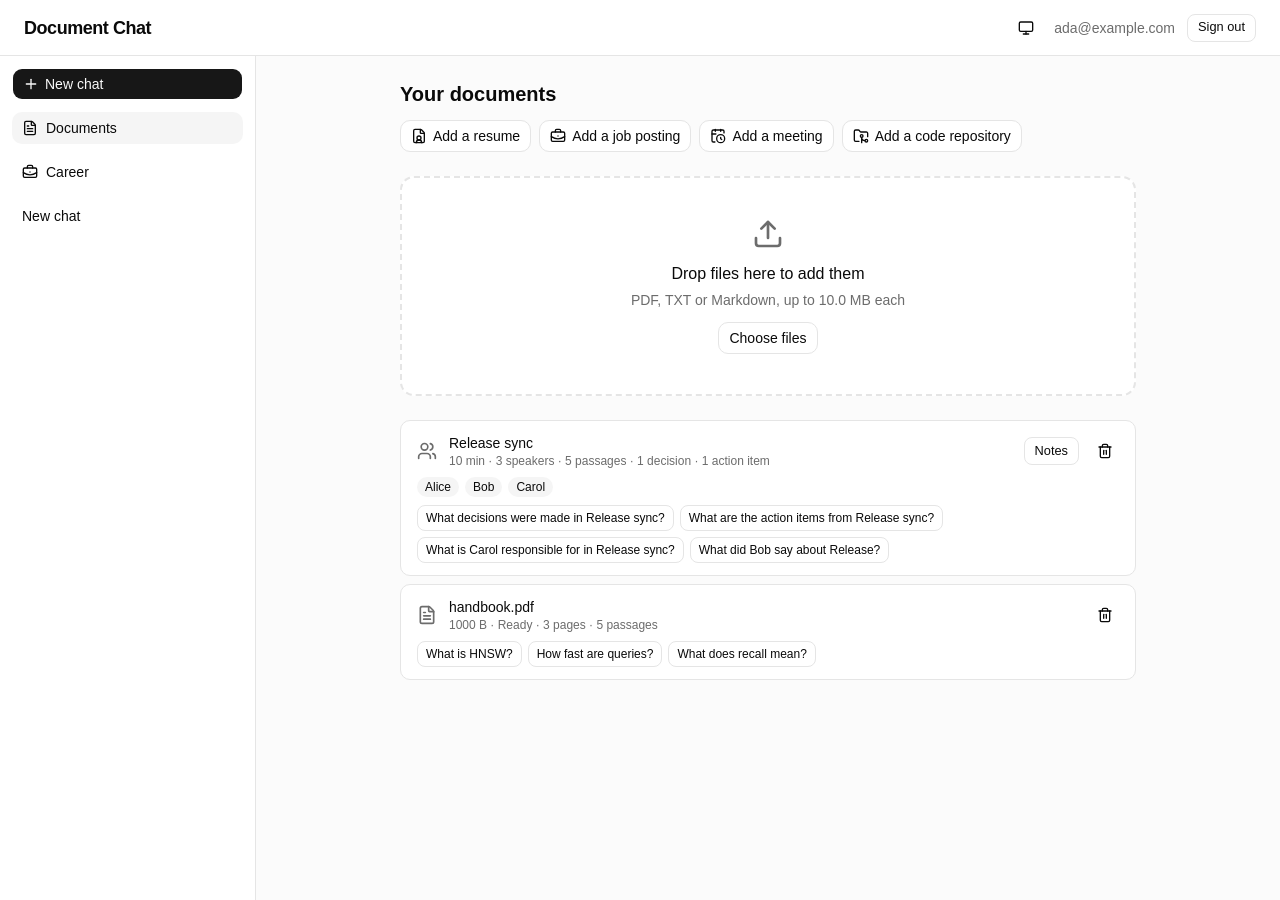
Test: suggested questions about a meeting › are on the card of the meeting, and start a chat about that meeting alone
This screenshot has width=1280, height=900.
Click the button "What are the action items from Release sync?". click: (812, 518)
box: [680,505,943,531]
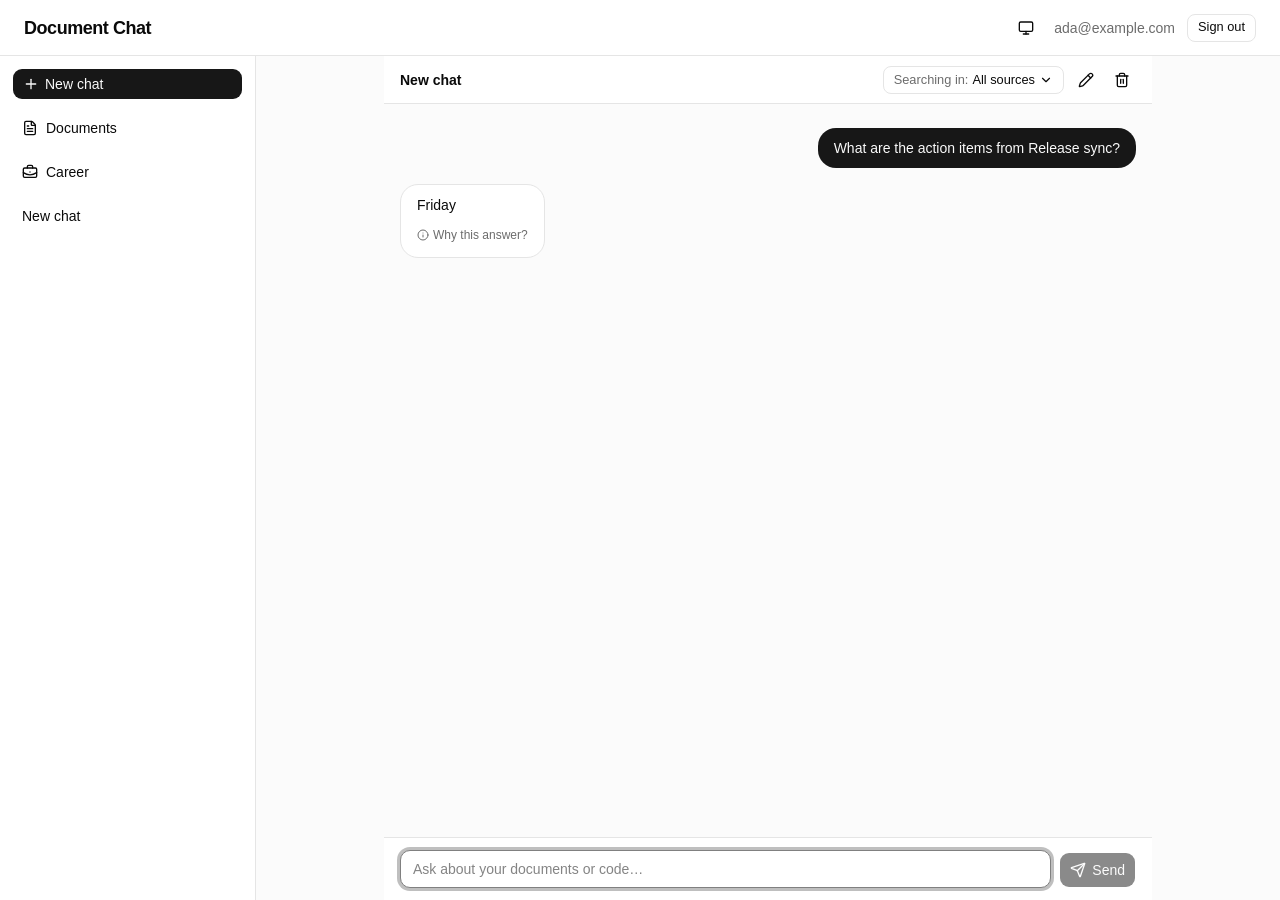
Now the text "Friday" is shown, box [417,197,456,213]
